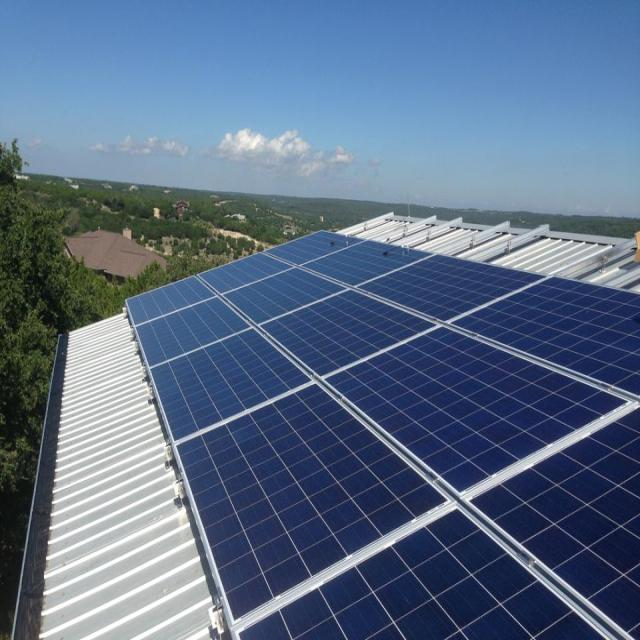dust-solar-panel: (128, 232, 640, 638)
